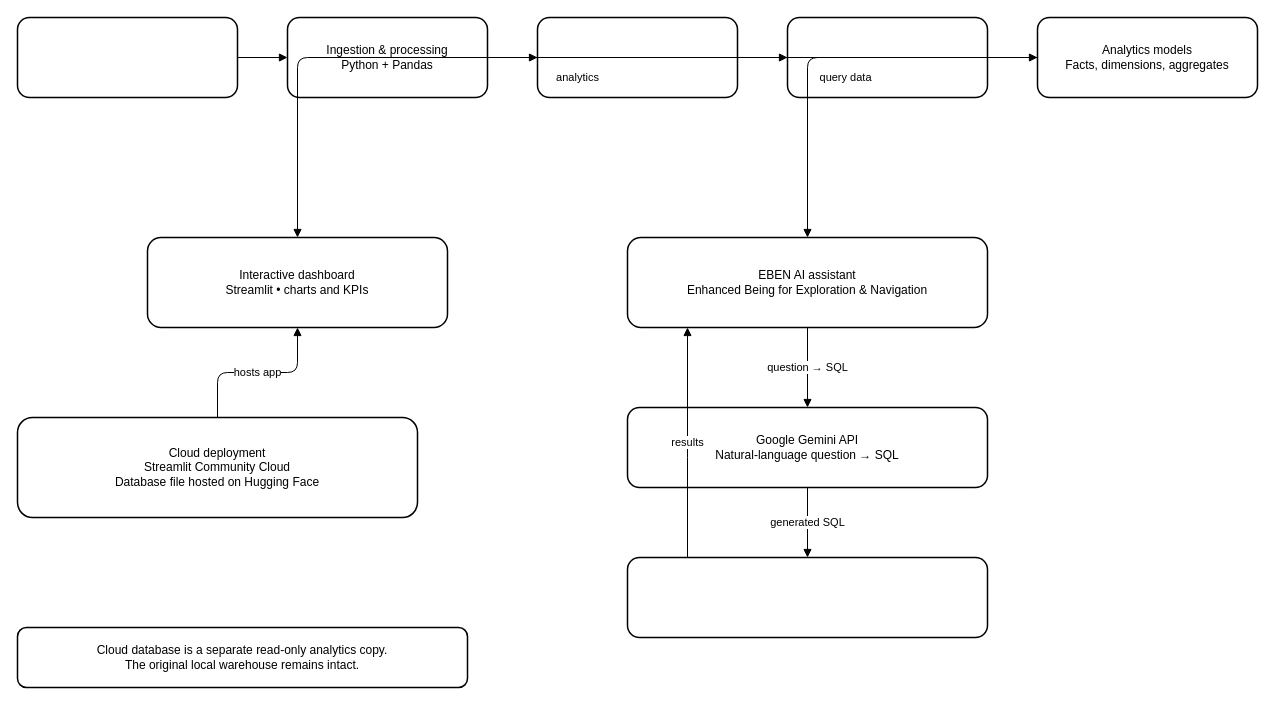
The diagram is 1276 pixels wide and 706 high, and some of its shapes have lost their labels. Each missing label, with the box of its shape:
Analytical warehouse DuckDB: (536, 16, 738, 98)
Raw CSV datasets Orders, items, restaurants, users, food, reviews: (16, 16, 238, 98)
SQL validation & execution Validated DuckDB query → results: (626, 556, 988, 638)
Transform & test dbt + SQL: (786, 16, 988, 98)
